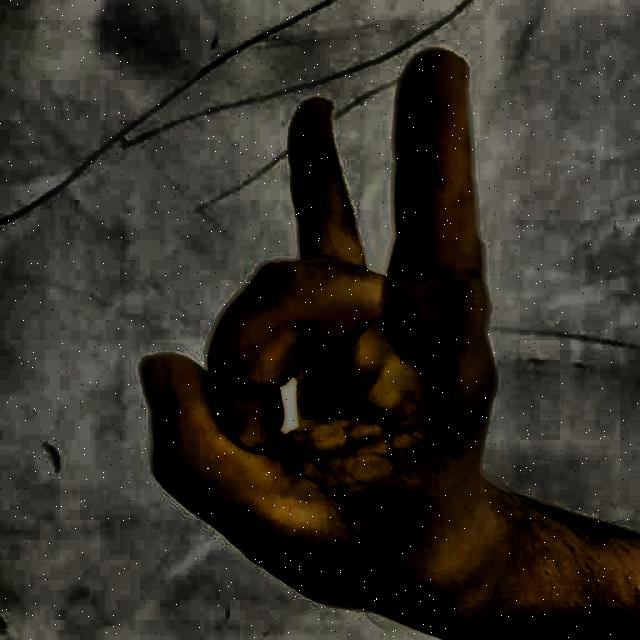Cha: (118, 30, 548, 634)
